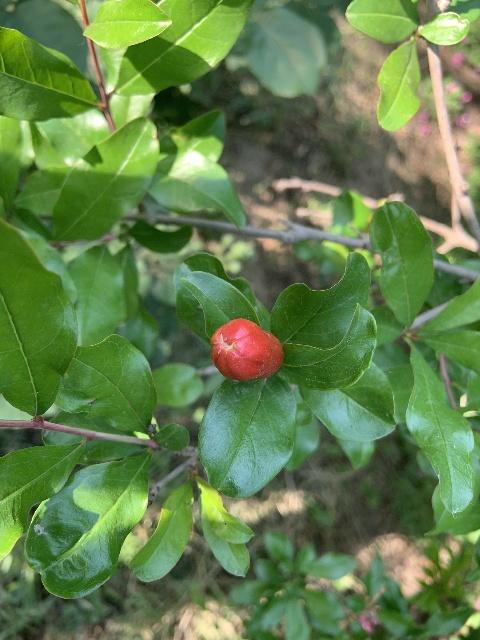bud: (210, 318, 283, 382)
